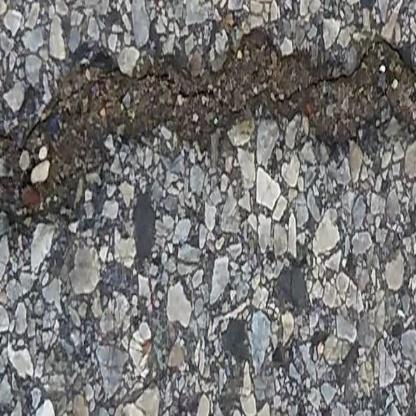Cracks: (0, 30, 416, 237)
